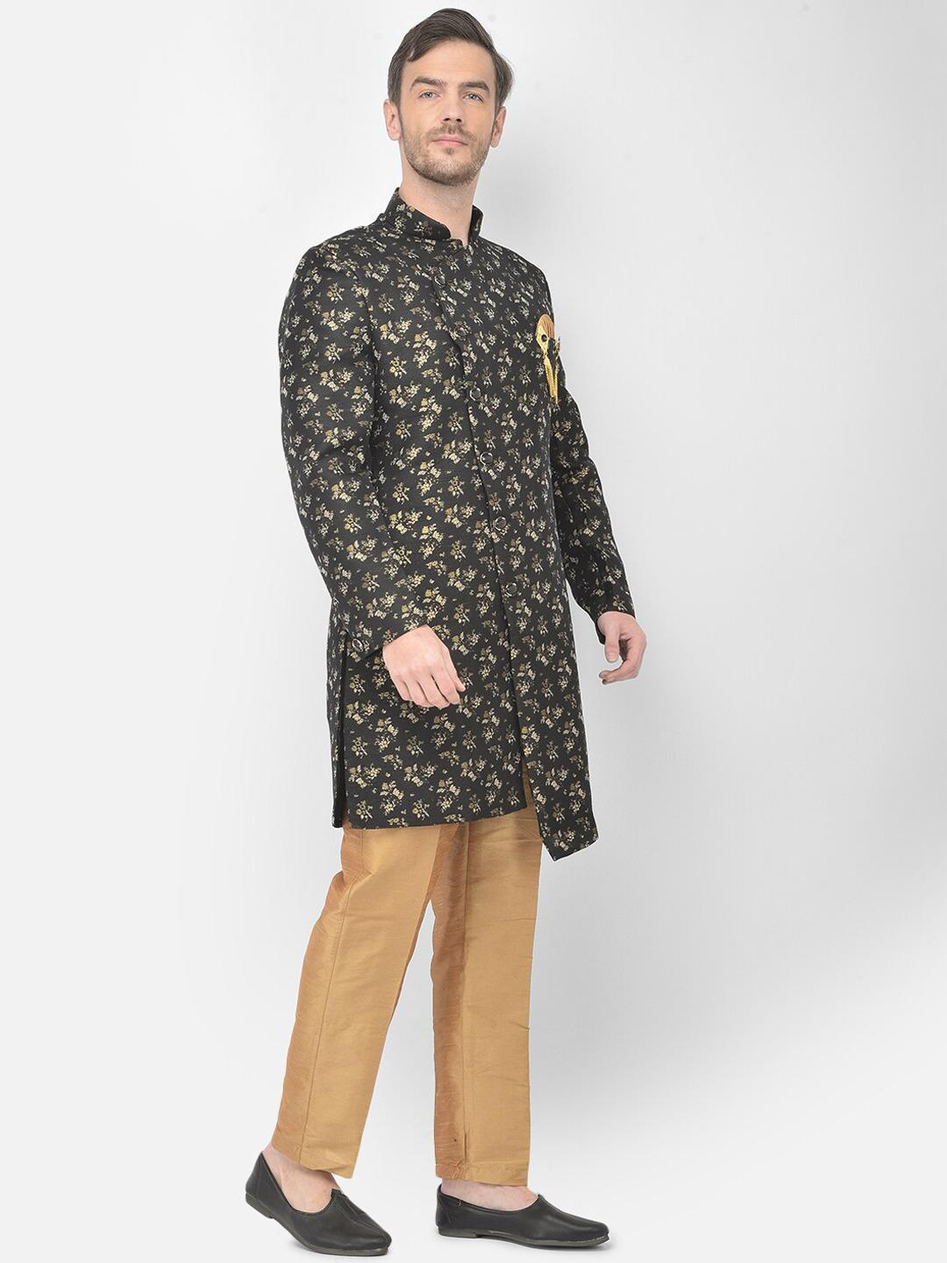Desgin sherwani: (271, 188, 642, 862)
